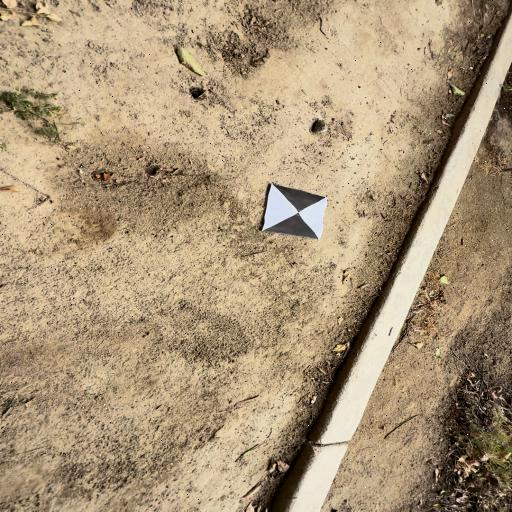target: (262, 183, 327, 240)
